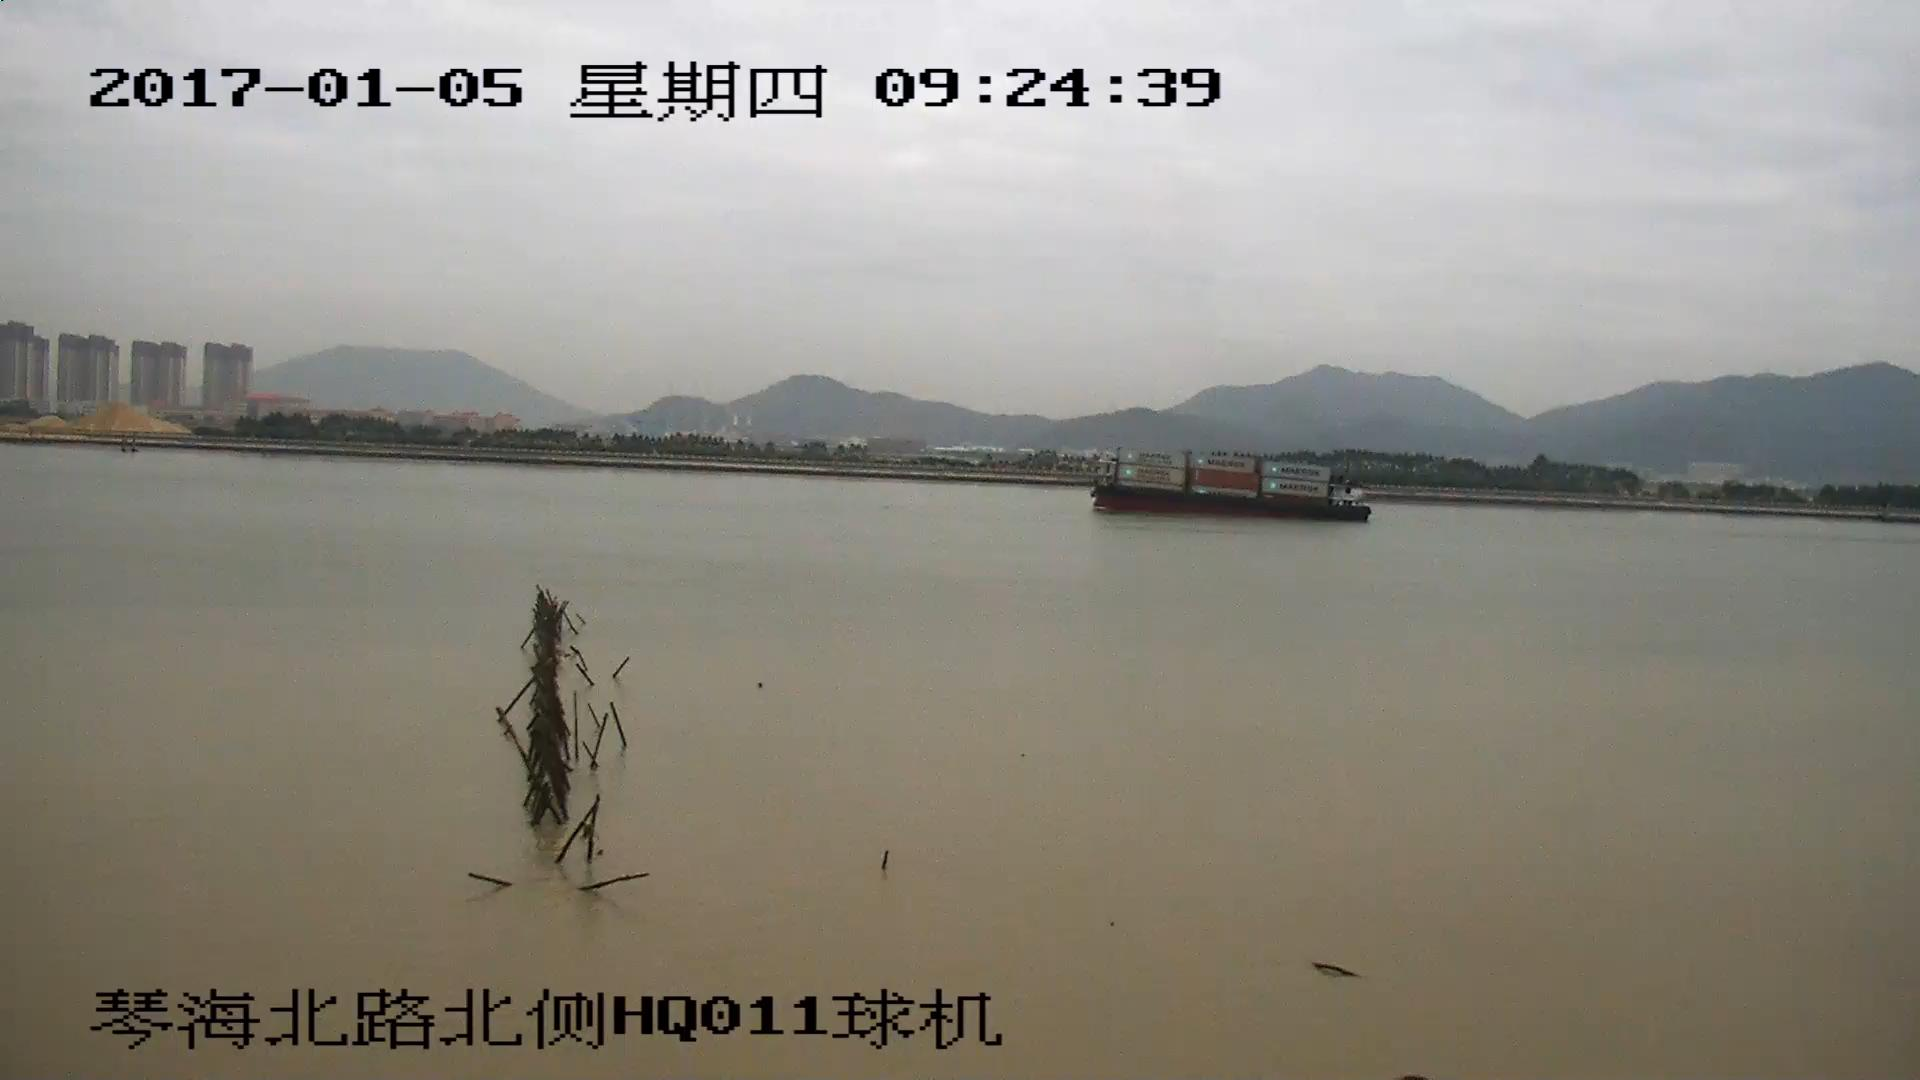container ship: (1091, 450, 1370, 521)
